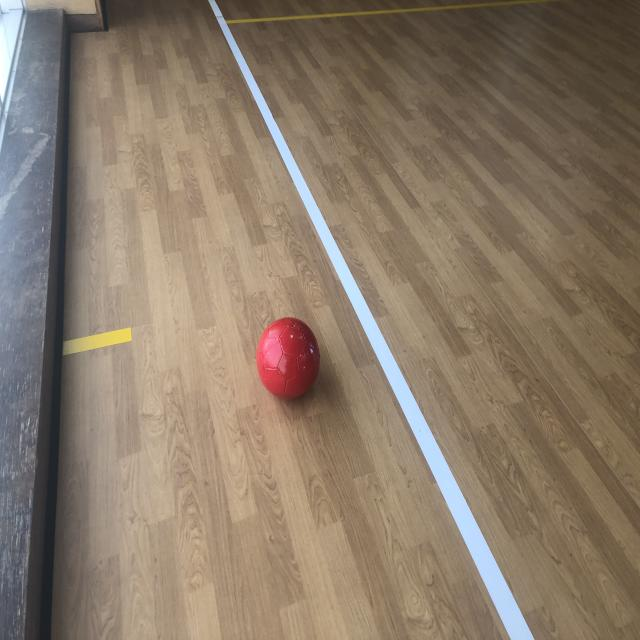red_ball: (257, 318, 320, 402)
